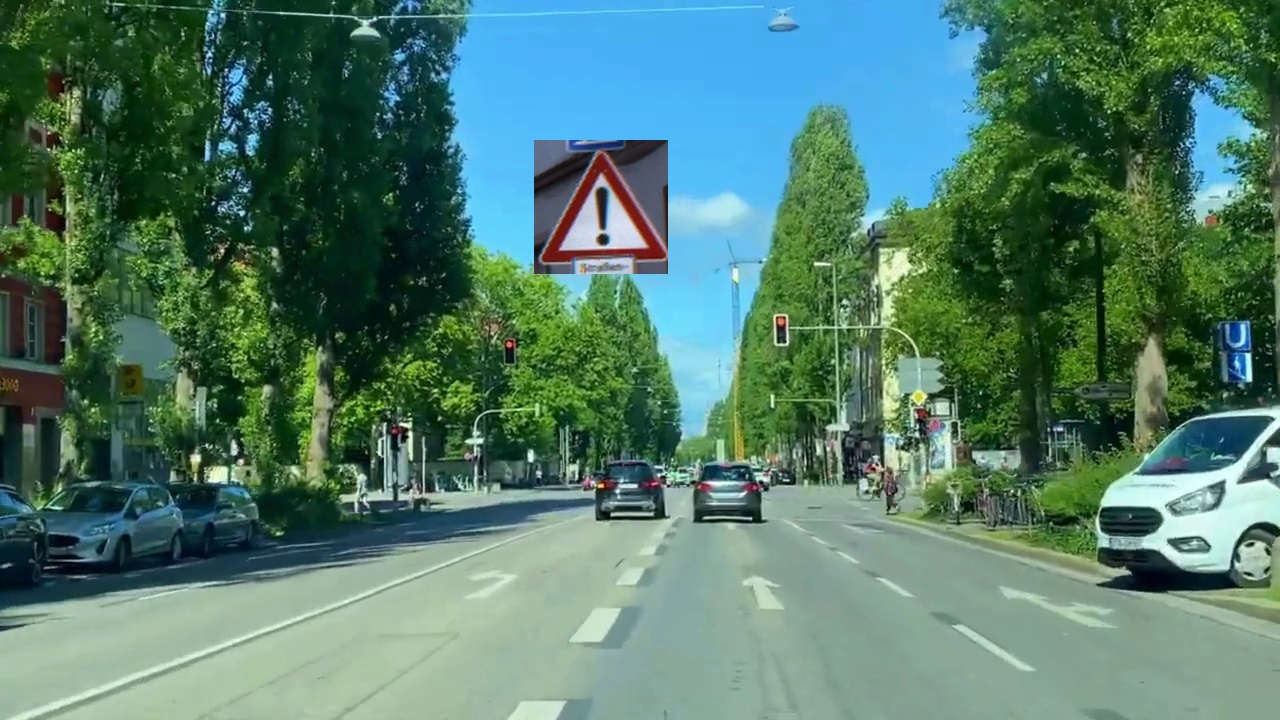Caution: (534, 140, 668, 274)
